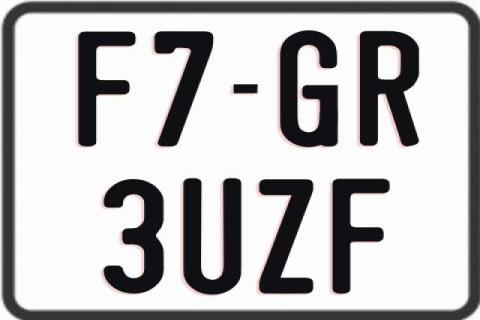0: (152, 29, 216, 144), (102, 177, 163, 296)
F: (332, 178, 392, 296), (76, 29, 137, 145)
G: (277, 29, 339, 150)
R: (357, 29, 418, 149)
U: (181, 178, 239, 296)
Z: (256, 179, 314, 296)
